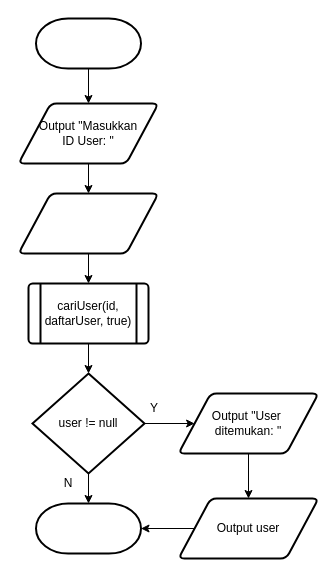
This 336x576 diagram has some shape labels left out. Here are the shapes that lost their labels. From the top down, the centre of each, then its label:
pixel 88 43: cariUserMenu()
pixel 88 223: Input id user
pixel 88 528: return
